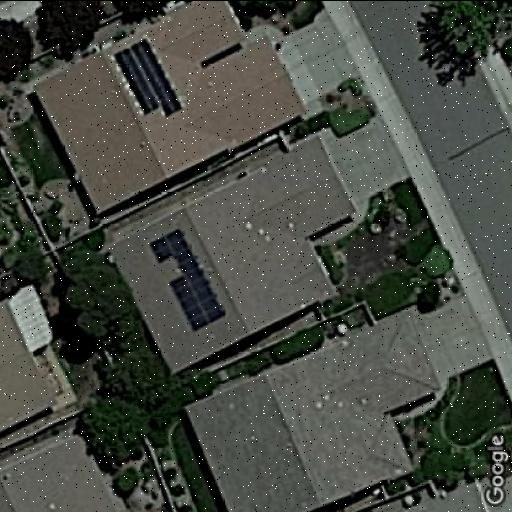solar-panel: (148, 227, 228, 331), (112, 36, 184, 117)
